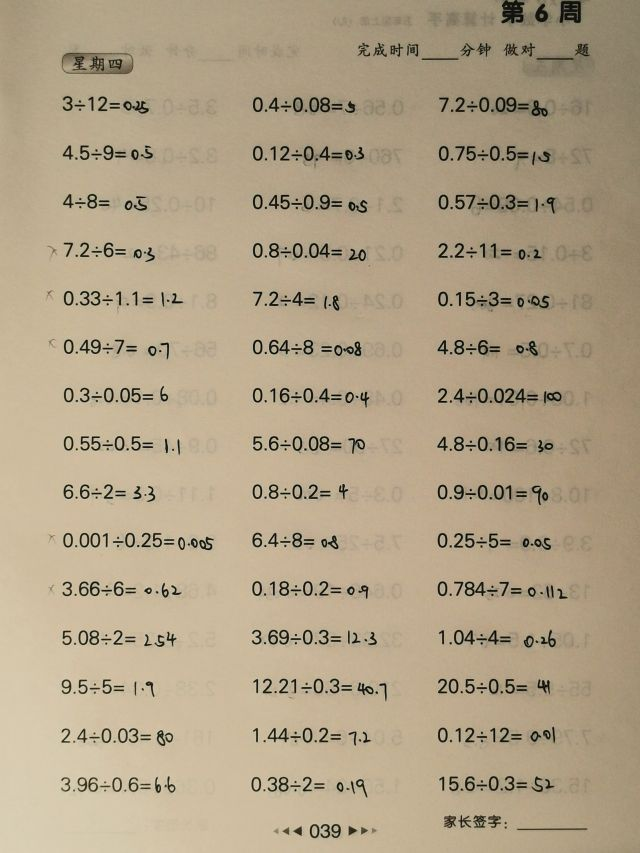equation: (46, 528, 217, 552), (250, 673, 391, 701), (433, 481, 553, 510), (434, 288, 554, 317), (249, 142, 368, 171), (246, 772, 371, 799), (432, 577, 571, 601), (44, 287, 188, 310), (433, 189, 559, 215), (434, 91, 553, 118), (436, 770, 559, 796), (433, 140, 555, 166), (434, 626, 559, 651), (247, 383, 372, 408), (57, 723, 177, 749), (59, 431, 183, 456), (58, 773, 180, 798), (247, 431, 369, 456), (247, 238, 369, 263), (59, 577, 186, 601), (249, 626, 381, 649), (434, 384, 566, 407), (58, 625, 179, 650), (249, 723, 374, 747), (247, 576, 371, 600), (432, 528, 555, 552), (247, 190, 370, 214), (434, 724, 560, 747), (432, 432, 557, 455), (247, 335, 365, 359), (434, 674, 555, 697), (48, 238, 159, 263), (59, 335, 173, 359), (433, 238, 545, 262), (247, 92, 358, 116), (433, 335, 542, 359), (59, 383, 172, 406), (57, 674, 158, 699), (58, 93, 151, 120), (59, 479, 159, 504), (55, 190, 154, 215), (247, 287, 343, 312), (249, 480, 352, 503), (59, 141, 158, 164), (247, 528, 341, 552)
